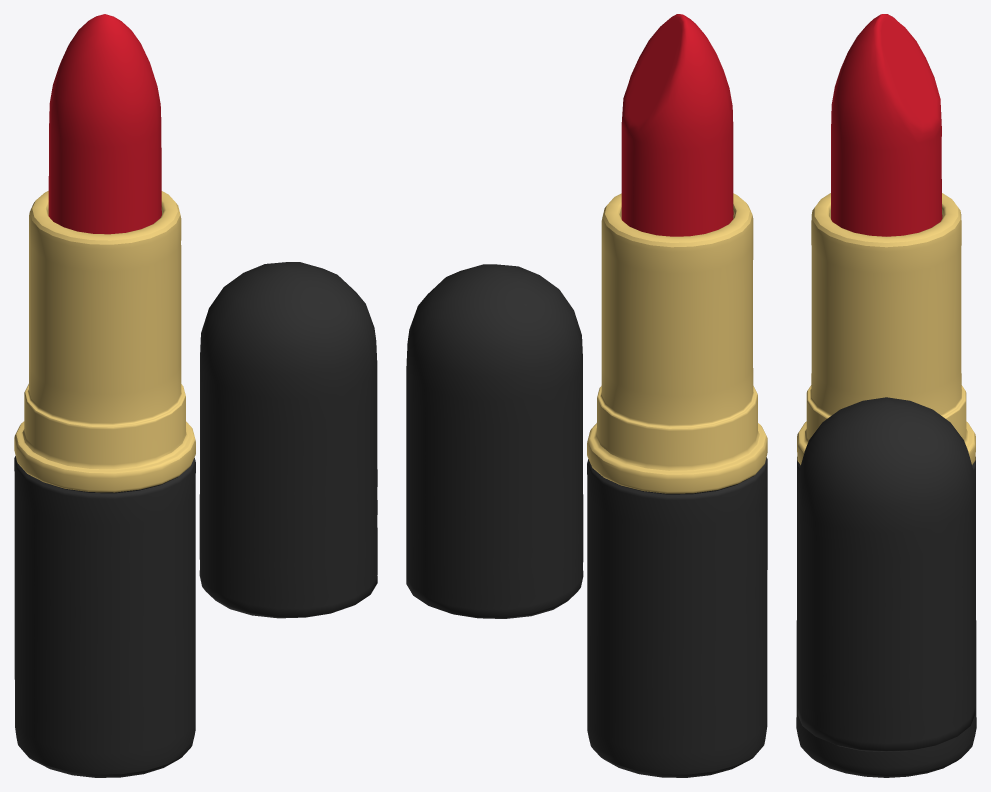
The model's file is lipstick 1.fbx.
3 views of the same model, side by side, from view 1: azimuth 30°, elevation 25°; view 2: azimuth 150°, elevation 25°; view 3: azimuth 270°, elevation 25° (orthographic).
Parts seen in each view (by area): view 1: Lipstick Cap1; view 2: Lipstick Cap1; view 3: Lipstick Cap1.
Boxes of the visible parts, bbox=[...] form: Lipstick Cap1: bbox=[14, 14, 377, 777]; Lipstick Cap1: bbox=[406, 14, 767, 777]; Lipstick Cap1: bbox=[796, 14, 976, 777].
Bounding box in the file's own units: 226 × 466 × 104.
